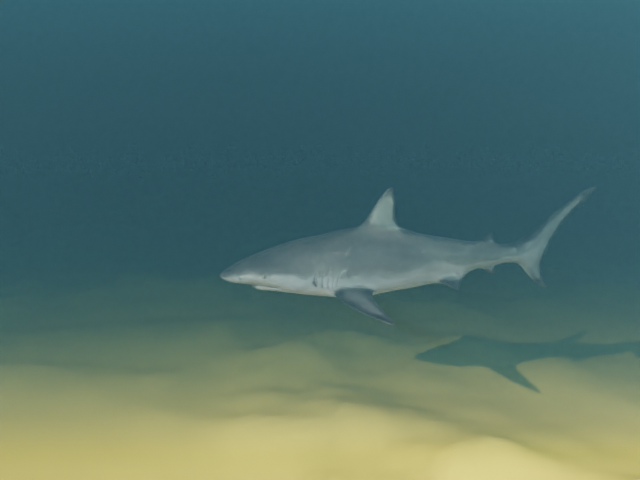Carribean Shark.001: (220, 186, 596, 325)
